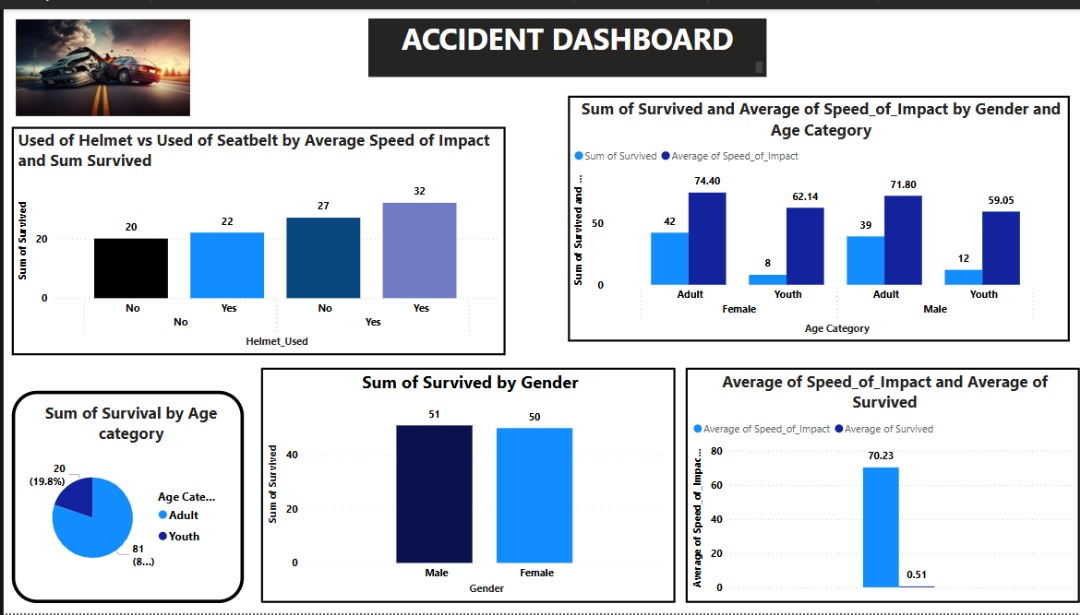

This screenshot's page, from the dashboard's own definition file:
{"tool":"powerbi","page":{"name":"Page 1","canvas":[1280,720],"ordinal":0},"visuals":[{"type":"clusteredColumnChart","fields":{"Y":["Sum(accident.Survived)"],"Category":["accident.Gender"]},"box":[306,426.8,492.6,279.9],"z":0},{"type":"clusteredColumnChart","fields":{"Y":["Sum(accident.Survived)","Avg(accident.Speed_of_Impact)"],"Category":["accident.Gender","accident.Age Category"]},"box":[670.4,102.8,597.2,293],"z":1000},{"type":"pieChart","title":"Sum of Survival by Age category ","fields":{"Category":["accident.Age Category"],"Y":["Sum(accident.Survived)"]},"box":[9.6,454.2,275.8,252.5],"z":2000},{"type":"clusteredColumnChart","title":" Used of Helmet vs Used of  Seatbelt by Average Speed of Impact  and Sum Survived","fields":{"Y":["Sum(accident.Survived)"],"Category":["accident.Seatbelt_Used","accident.Helmet_Used"]},"box":[9.9,139.4,587.3,271.8],"z":3000},{"type":"textbox","title":"ACCIDENT DASHBOARD","box":[433.6,11,473.4,70],"z":4000},{"type":"image","box":[9.6,0,216.8,140],"z":5000},{"type":"clusteredColumnChart","fields":{"Y":["Avg(accident.Speed_of_Impact)","Avg(accident.Survived)"]},"box":[811.3,426.8,469,280.3],"z":6000}]}

Visuals, with their boxes in screenshot pixels (x1, y1, x2, y2), scaled from the page's 1280x720 canvas onto the 1080x615 screenshot:
clusteredColumnChart - Sum(accident.Survived) x accident.Gender: select_region(258, 365, 674, 604)
clusteredColumnChart - Sum(accident.Survived) x Avg(accident.Speed_of_Impact): select_region(566, 88, 1070, 338)
"Sum of Survival by Age category " pieChart: select_region(8, 388, 241, 604)
" Used of Helmet vs Used of  Seatbelt by Average Speed of Impact  and Sum Survived" clusteredColumnChart: select_region(8, 119, 504, 351)
"ACCIDENT DASHBOARD" textbox: select_region(366, 9, 765, 69)
image: select_region(8, 0, 191, 120)
clusteredColumnChart - Avg(accident.Speed_of_Impact) x Avg(accident.Survived): select_region(685, 365, 1079, 604)
